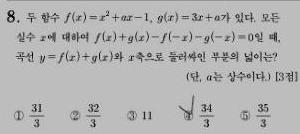choice: (179, 106, 194, 122)
not-choice: (237, 108, 251, 122), (125, 109, 138, 122), (11, 110, 25, 122), (68, 109, 81, 121)
